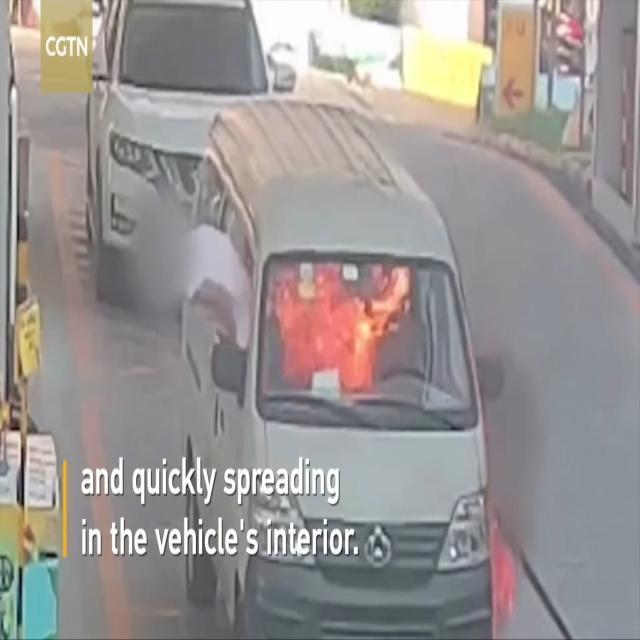fire: (264, 263, 419, 395), (488, 500, 522, 638)
